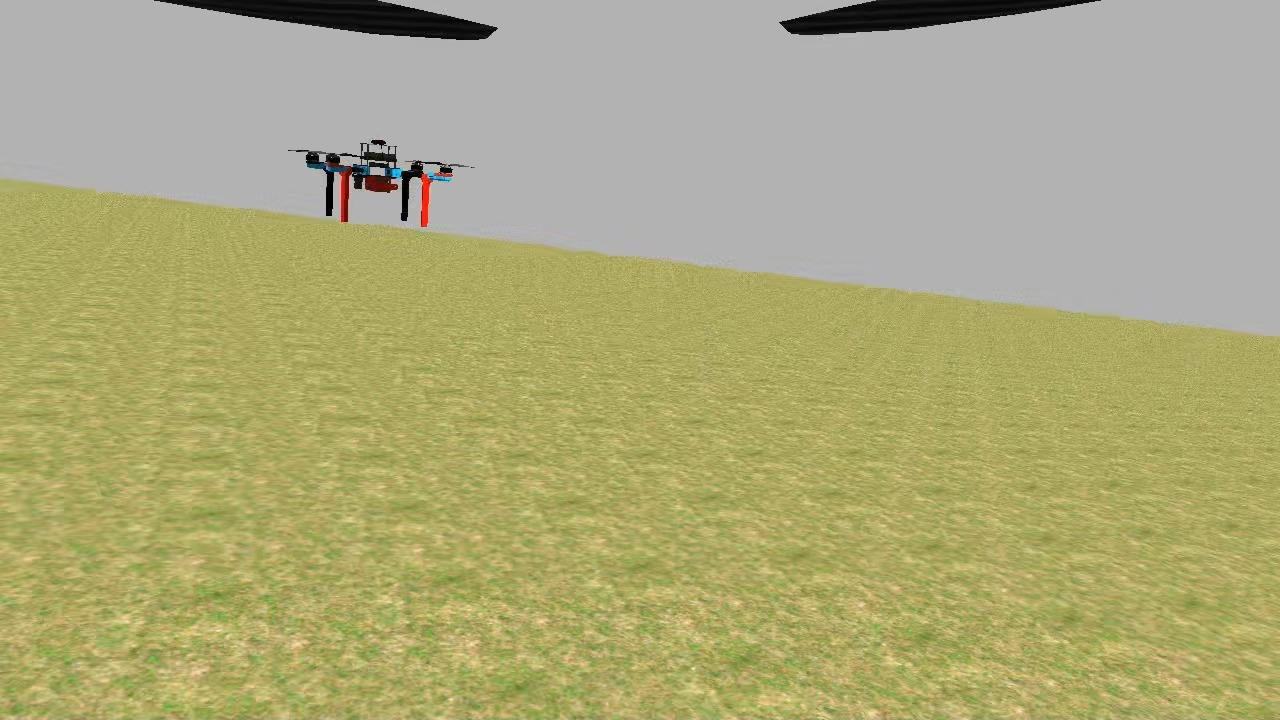UAV: (300, 130, 463, 233)
